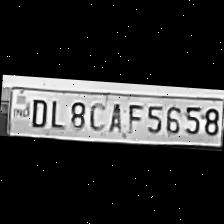5: (179, 102, 200, 135), (142, 100, 162, 134)
6: (160, 102, 180, 134)
8: (64, 96, 88, 129), (199, 102, 221, 136)
A: (103, 99, 125, 134)
C: (85, 98, 107, 132)
D: (27, 94, 50, 128)
F: (123, 100, 144, 134)
L: (46, 96, 66, 128)
